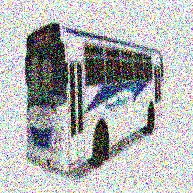bus: (25, 22, 170, 176)
